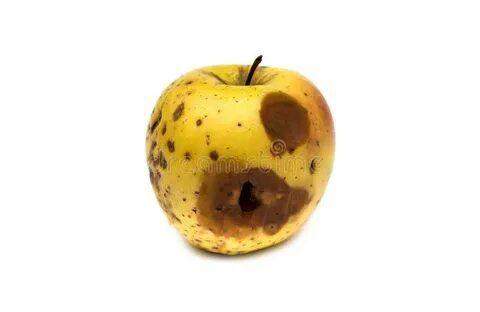Apple: (145, 63, 334, 256)
